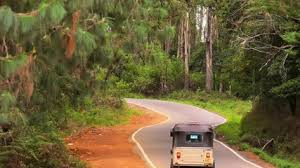tuk tuk: (169, 122, 217, 168)
